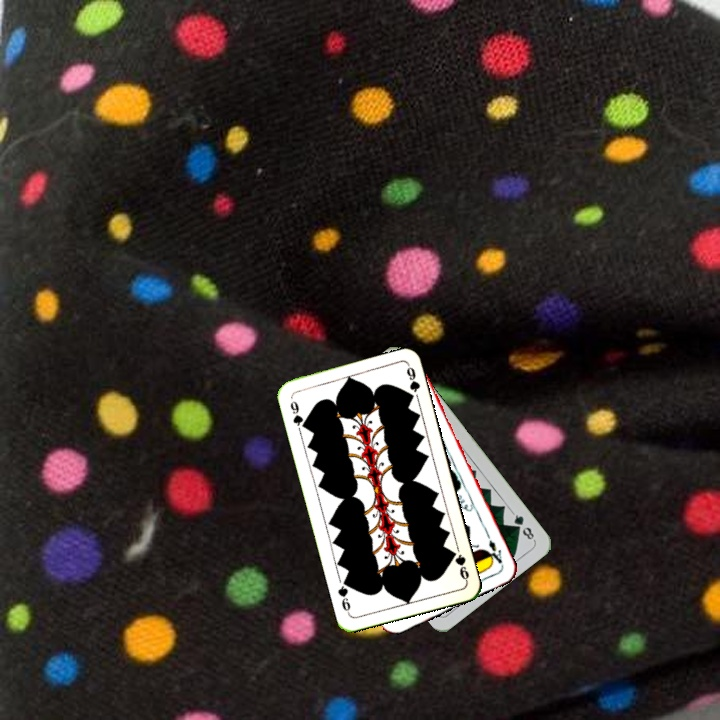EA: (483, 536, 505, 567)
G8: (508, 509, 537, 543)
G9: (446, 546, 472, 584), (286, 394, 309, 432)
